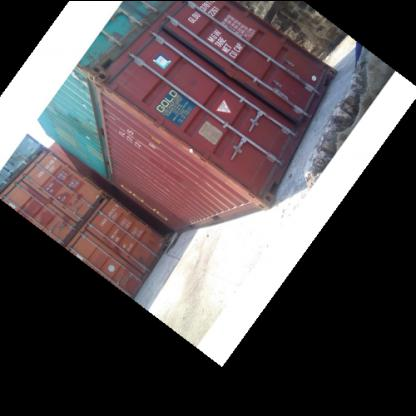Damage: (91, 78, 161, 121), (144, 116, 203, 160)
